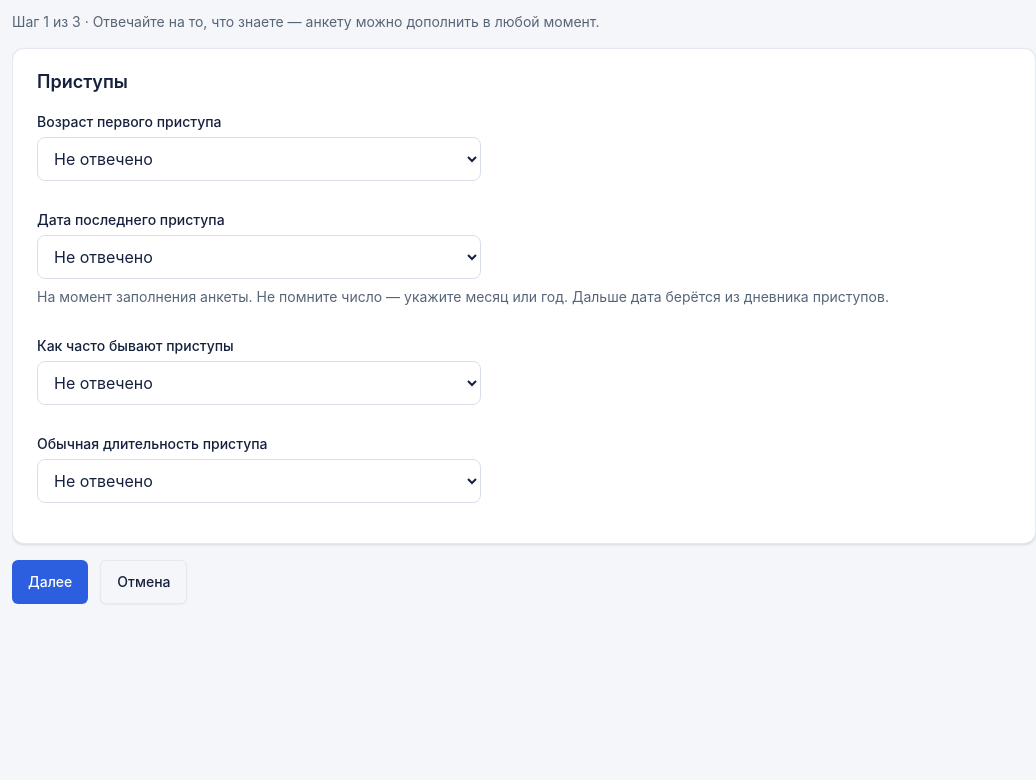
Test: IntakeForm › ведёт по шагам вперёд и назад
The image size is (1036, 780).
What coordinates should you click on to do the following:
click the button "Далее"
I would click on:
 (50, 582)
Its box is [12, 560, 88, 604].
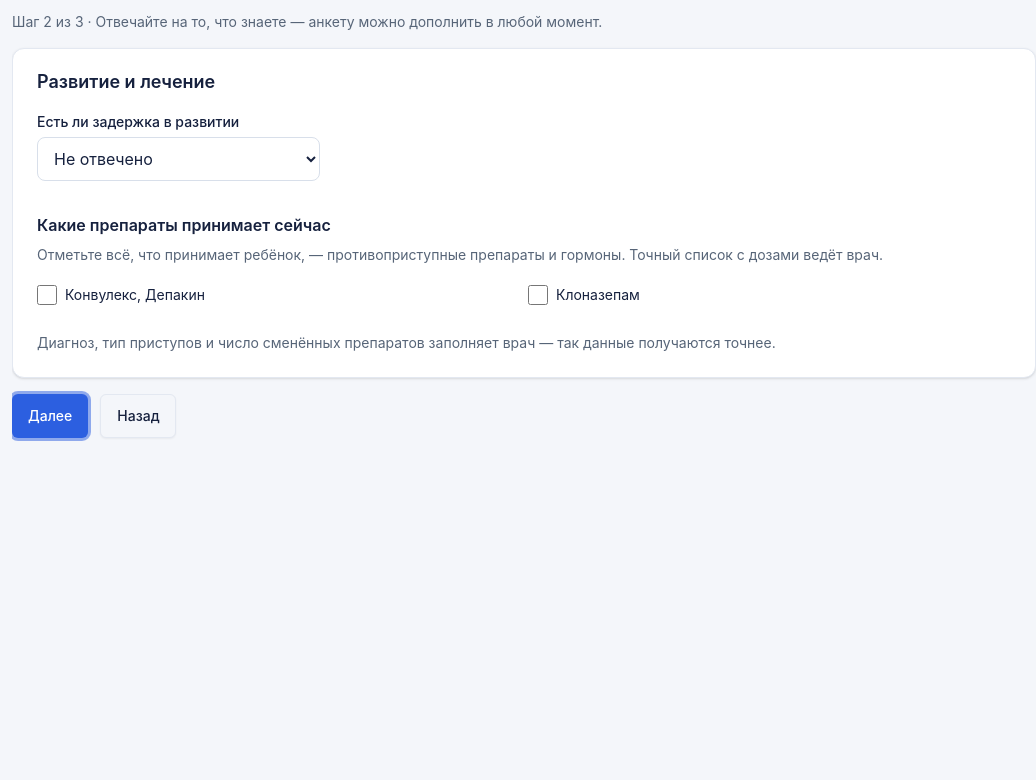
expect the text "Шаг 2 из 3" is shown: met, box [12, 13, 84, 30]
What coordinates should you click on to do the following:
click the button "Назад"
I would click on:
 (138, 416)
Its box is [100, 394, 176, 438].
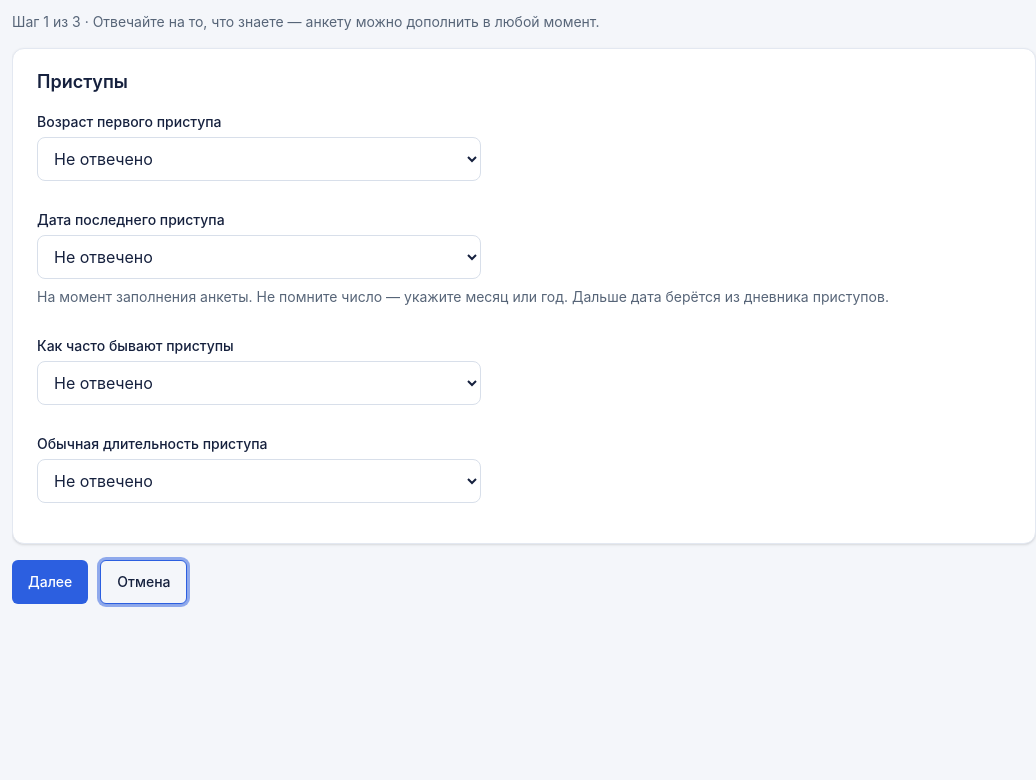
expect the text "Шаг 1 из 3" is shown: met, box [12, 13, 81, 30]
